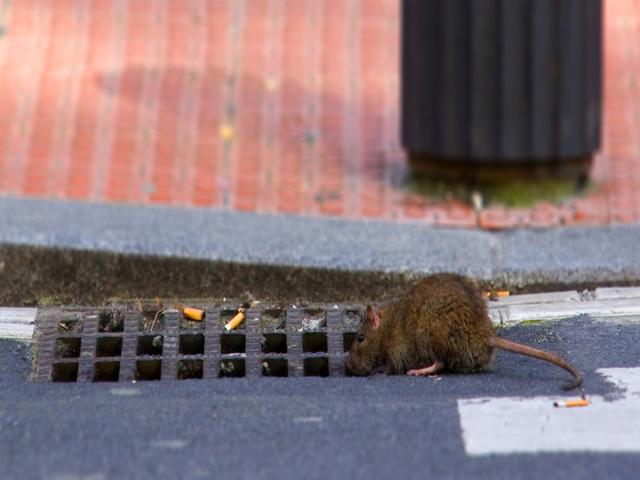mouse: (339, 263, 605, 439)
